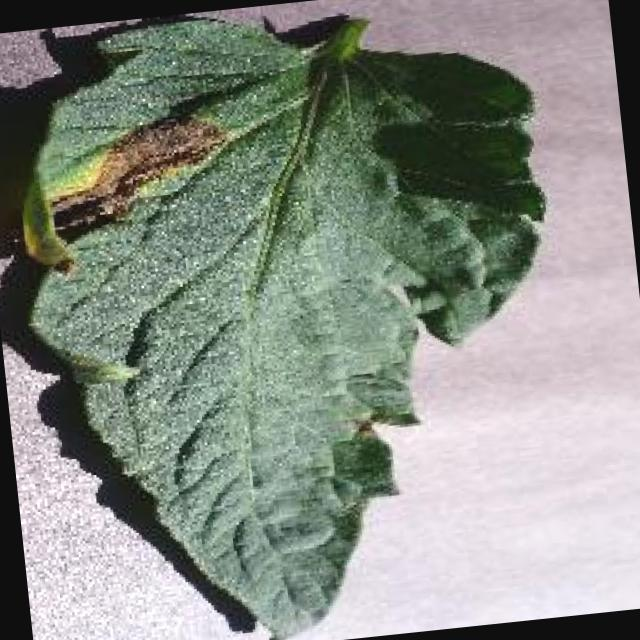leaf blight: (16, 14, 552, 638)
